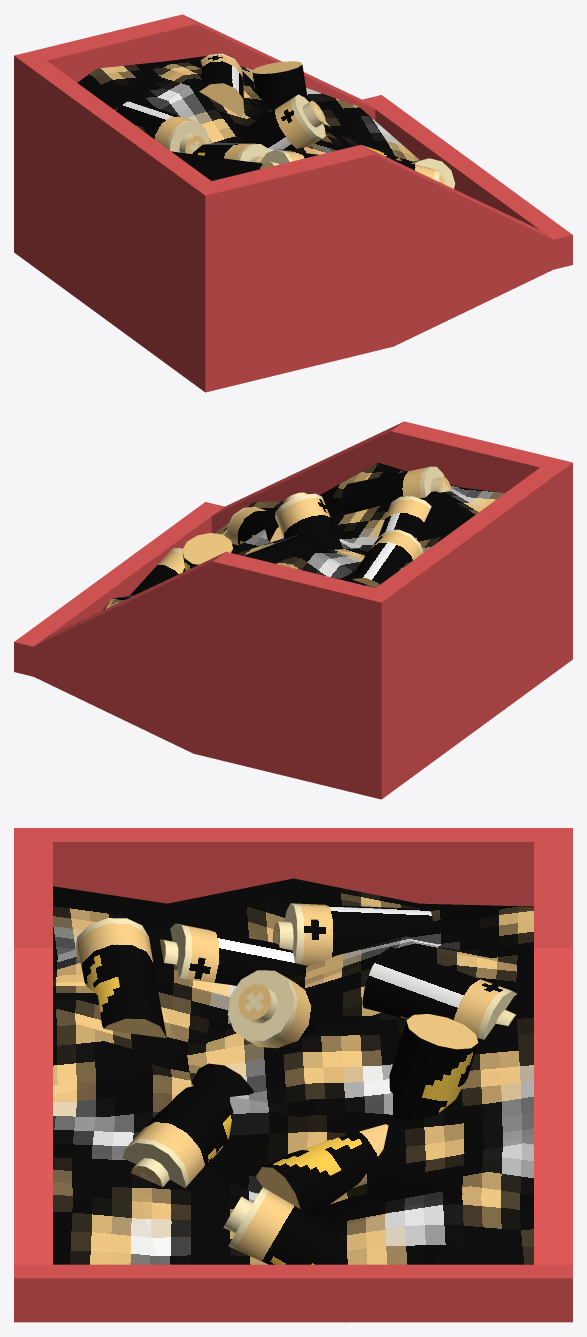
Rendered from BatteryBox.fbx.
The picture shows the model from 3 angles, top to bottom: view 1: azimuth 30°, elevation 25°; view 2: azimuth 150°, elevation 25°; view 3: azimuth 270°, elevation 25°; orthographic projection. The views are drawn at different scales.
Visible parts, largest first — view 1: Box; view 2: Box; view 3: Box.
Part boxes in pixels (bbox=[...]): Box: bbox=[14, 14, 572, 392]; Box: bbox=[14, 421, 572, 799]; Box: bbox=[14, 828, 572, 1322].
Size of the model in its own units: 0.6278 by 0.3213 by 0.5663.
